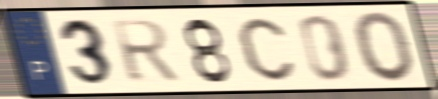0: (298, 12, 352, 84)
3: (58, 15, 120, 90)
8: (181, 16, 233, 85)
C: (235, 15, 298, 83)
O: (351, 9, 418, 85)
R: (108, 17, 184, 86)
